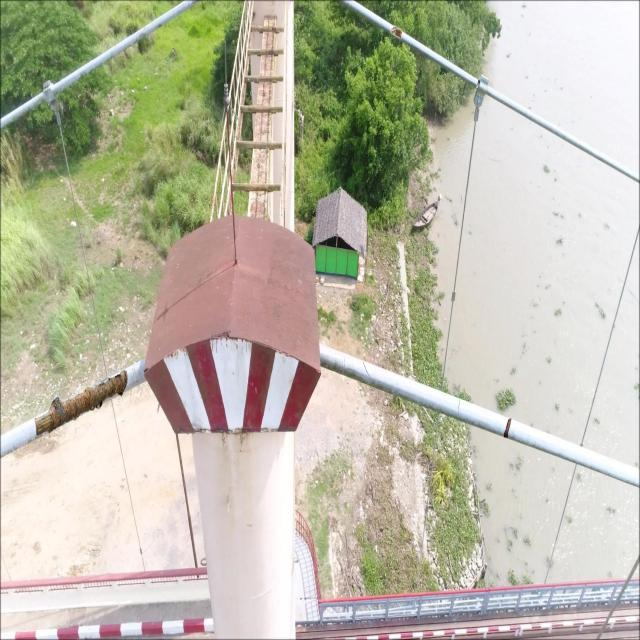corrosion: (29, 369, 128, 436), (390, 24, 403, 41), (502, 418, 512, 438)
crack: (362, 361, 372, 385), (457, 397, 461, 417), (342, 356, 346, 373), (484, 421, 488, 428)
